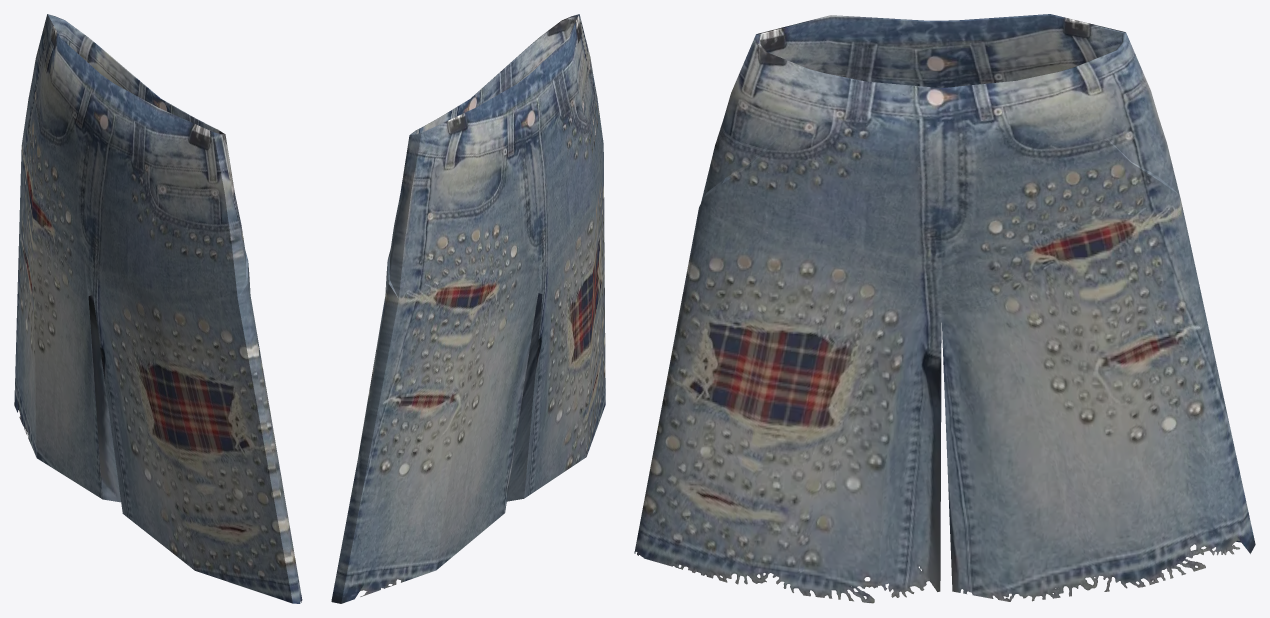
File: studded-denim-jorts.glb
3 renders of one model, left to right at view 1: azimuth 30°, elevation 25°; view 2: azimuth 150°, elevation 25°; view 3: azimuth 270°, elevation 25°, orthographic. The views are drawn at different scales.
Visible parts, largest first — view 1: A_Ch_NewFemale_Lo_ShortsD_010_Mesh%2E125-1_n3d; view 2: A_Ch_NewFemale_Lo_ShortsD_010_Mesh%2E125-1_n3d; view 3: A_Ch_NewFemale_Lo_ShortsD_010_Mesh%2E125-1_n3d.
Part boxes in pixels (left/top/right/bottom): A_Ch_NewFemale_Lo_ShortsD_010_Mesh%2E125-1_n3d: left=14, top=14, right=302, bottom=603; A_Ch_NewFemale_Lo_ShortsD_010_Mesh%2E125-1_n3d: left=331, top=14, right=605, bottom=603; A_Ch_NewFemale_Lo_ShortsD_010_Mesh%2E125-1_n3d: left=634, top=14, right=1255, bottom=603.
Size of the model in its own units: 0.0322 by 0.1313 by 0.1375.
Materials: 1 (1 with a texture image).
